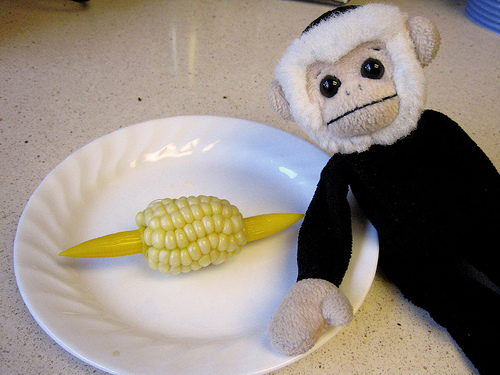corn: (56, 194, 301, 278)
